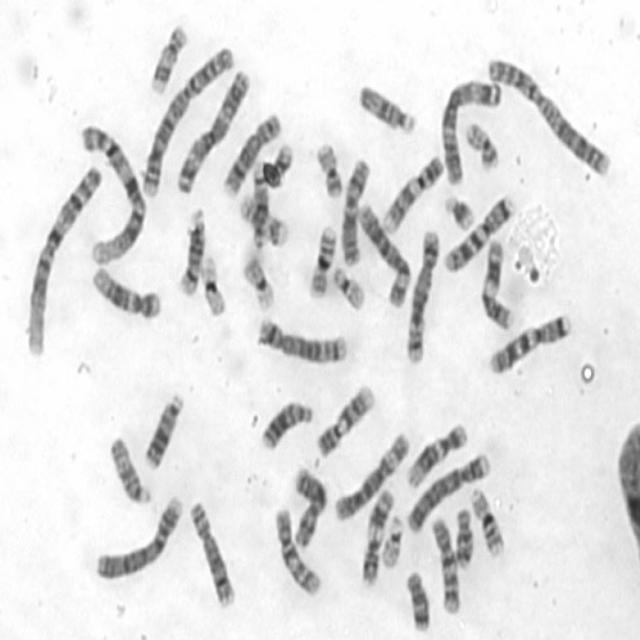A1: (26, 165, 102, 356), (80, 125, 148, 267)
A2: (488, 57, 611, 179), (141, 44, 233, 197)
A3: (175, 66, 251, 196), (441, 77, 501, 185)
B4: (94, 494, 181, 582), (406, 453, 492, 535)
B5: (406, 230, 439, 364), (256, 318, 348, 365)
C10: (274, 506, 324, 596), (431, 518, 461, 615)
C11: (361, 486, 394, 589), (481, 238, 515, 332)
C12: (407, 422, 468, 489), (90, 266, 162, 320)
C6: (333, 430, 409, 522), (356, 200, 413, 309)
C7: (442, 193, 514, 275), (487, 314, 573, 376)
C8: (188, 501, 238, 609), (223, 112, 282, 193)
C9: (383, 154, 444, 234), (314, 383, 374, 460)
D13: (143, 390, 184, 470), (259, 401, 312, 454)
D14: (178, 205, 206, 297), (252, 160, 268, 252)
D15: (110, 438, 154, 506), (358, 84, 419, 132)
E16: (470, 486, 506, 558), (307, 224, 337, 300)
E17: (150, 23, 187, 95), (239, 198, 290, 248)
E18: (405, 570, 431, 632), (455, 508, 473, 570)
F19: (242, 255, 278, 312), (201, 254, 228, 319)
F20: (464, 122, 500, 169), (316, 140, 344, 197)
G21: (447, 192, 476, 232), (272, 142, 294, 176)
G22: (334, 266, 366, 311), (381, 515, 403, 570)
X: (340, 156, 372, 267), (290, 464, 329, 550)
